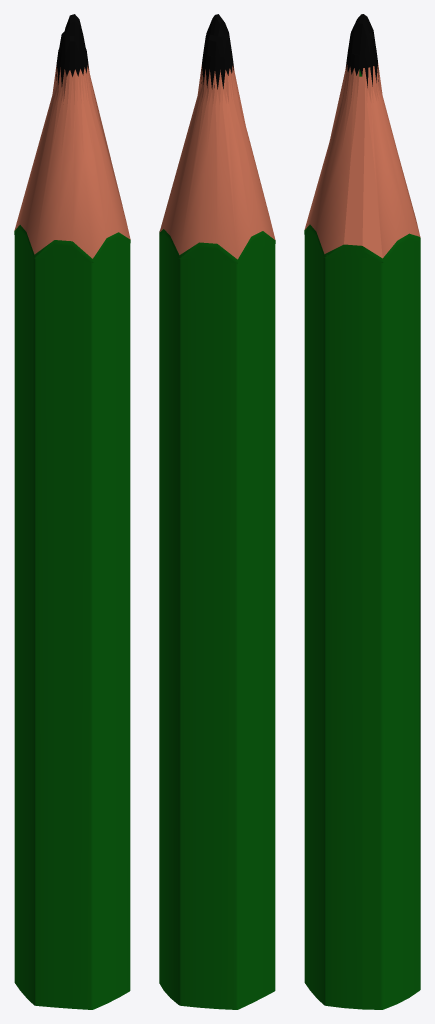
Rendered from pen_three.FBX.
3 renders of one model, left to right at view 1: azimuth 90°, elevation 25°; view 2: azimuth 150°, elevation 25°; view 3: azimuth 330°, elevation 25°, orthographic.
Visible parts, largest first — view 1: Cone002; view 2: Cone002; view 3: Cone002.
Boxes of the visible parts, box(x1,y1,x2,y2) form: Cone002: box(14, 14, 130, 1009); Cone002: box(159, 14, 275, 1009); Cone002: box(304, 14, 420, 1009).
Bounding box in the file's own units: 56.38 × 545 × 59.09.
